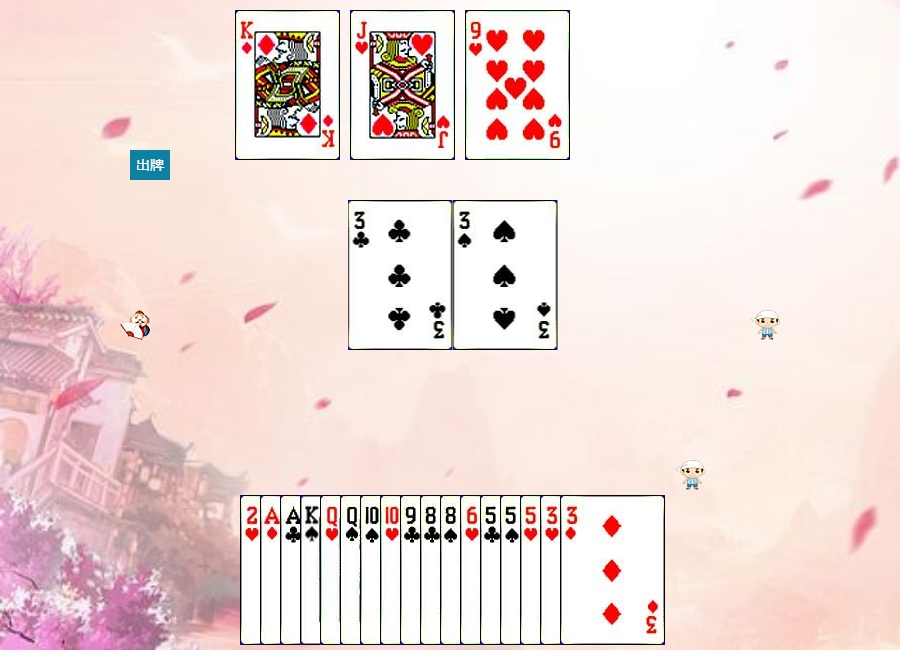10~3: (380, 495, 485, 645)
10~4: (360, 495, 465, 645)
11~3: (350, 10, 455, 160)
12~3: (320, 495, 425, 645)
12~4: (340, 495, 445, 645)
13~1: (235, 10, 340, 160)
13~4: (300, 495, 405, 645)
14~1: (260, 495, 365, 645)
14~2: (280, 495, 385, 645)
15~3: (240, 495, 345, 645)
3~1: (560, 495, 665, 645)
3~2: (348, 200, 453, 350)
3~3: (540, 495, 645, 645)
3~4: (453, 200, 558, 350)
5~2: (480, 495, 585, 645)
5~3: (520, 495, 625, 645)
5~4: (500, 495, 605, 645)
6~3: (460, 495, 565, 645)
8~2: (420, 495, 525, 645)
8~4: (440, 495, 545, 645)
9~2: (400, 495, 505, 645)
9~3: (465, 10, 570, 160)
